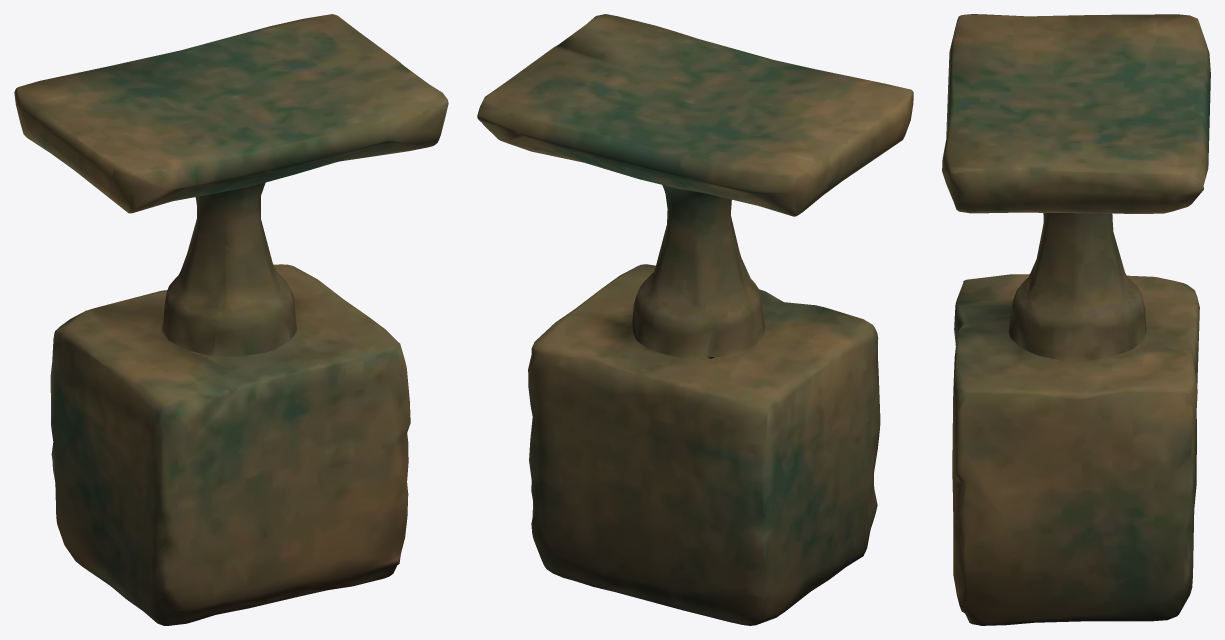
The model's file is ancient-bronze-anvil-v001.glb.
3 renders of one model, left to right at view 1: azimuth 30°, elevation 25°; view 2: azimuth 150°, elevation 25°; view 3: azimuth 270°, elevation 25°, orthographic.
Visible parts, largest first — view 1: ancient-bronze-anvil; view 2: ancient-bronze-anvil; view 3: ancient-bronze-anvil.
Boxes of the visible parts, x1=… form: ancient-bronze-anvil: x1=14, y1=14, x2=448, y2=625; ancient-bronze-anvil: x1=477, y1=14, x2=913, y2=625; ancient-bronze-anvil: x1=942, y1=14, x2=1210, y2=625.
Bounding box in the file's own units: 0.459 × 0.64 × 0.3242.
Materials: 1 (1 with a texture image).
